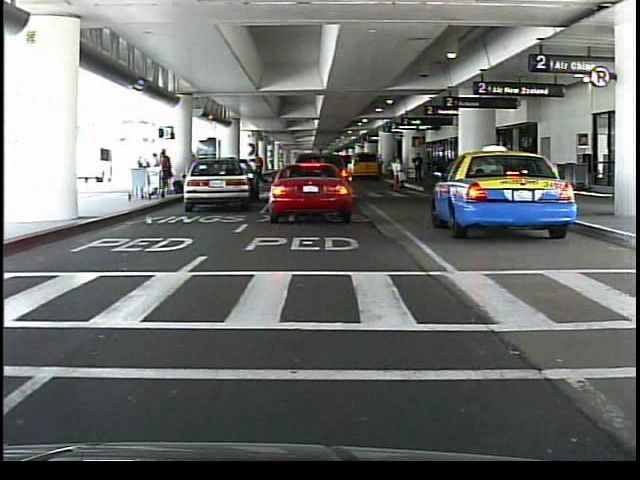person: (161, 148, 176, 197), (315, 154, 330, 202), (253, 153, 270, 188), (390, 152, 404, 189), (300, 164, 312, 202), (413, 151, 426, 185)
